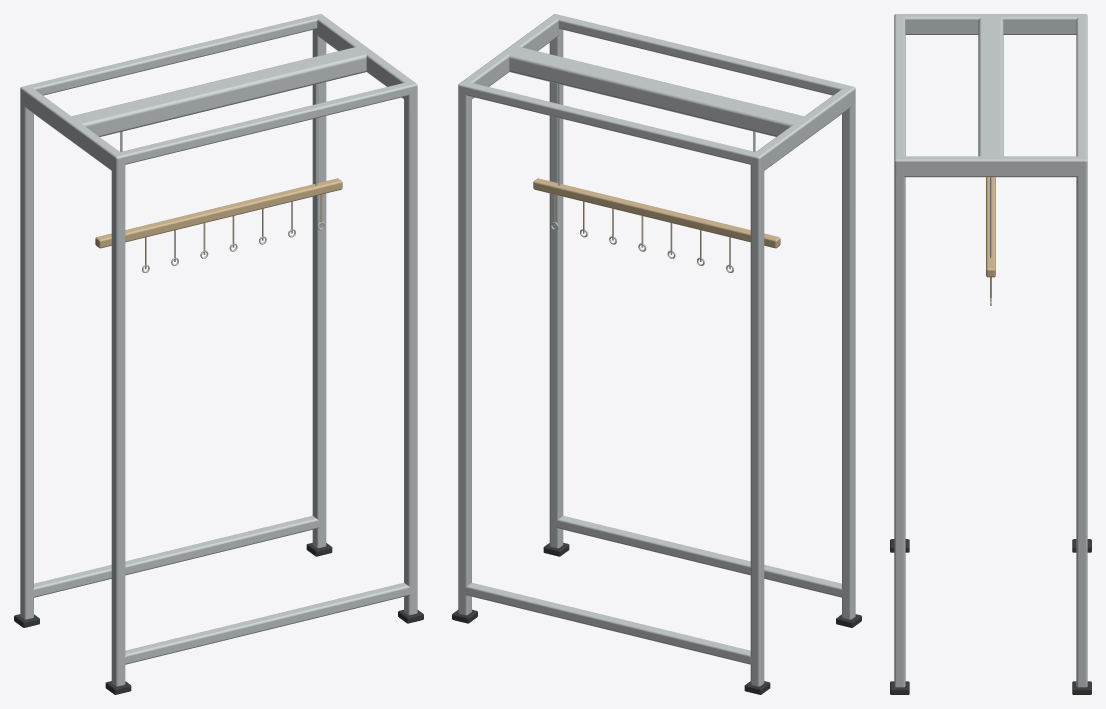
The model's file is candlemaking-and-soap-workshop-wick-dipping-frame-25761c39__30657.glb.
The picture shows the model from 3 angles, left to right: view 1: azimuth 30°, elevation 25°; view 2: azimuth 150°, elevation 25°; view 3: azimuth 270°, elevation 25°; orthographic projection.
Visible parts, largest first — view 1: wick-dipping-frame; view 2: wick-dipping-frame; view 3: wick-dipping-frame.
Boxes of the visible parts, left/top/right/bottom form: wick-dipping-frame: left=14, top=14, right=423, bottom=694; wick-dipping-frame: left=452, top=14, right=861, bottom=694; wick-dipping-frame: left=890, top=14, right=1091, bottom=694.
Bounding box in the file's own units: 1.27 × 2.1 × 0.7201.
